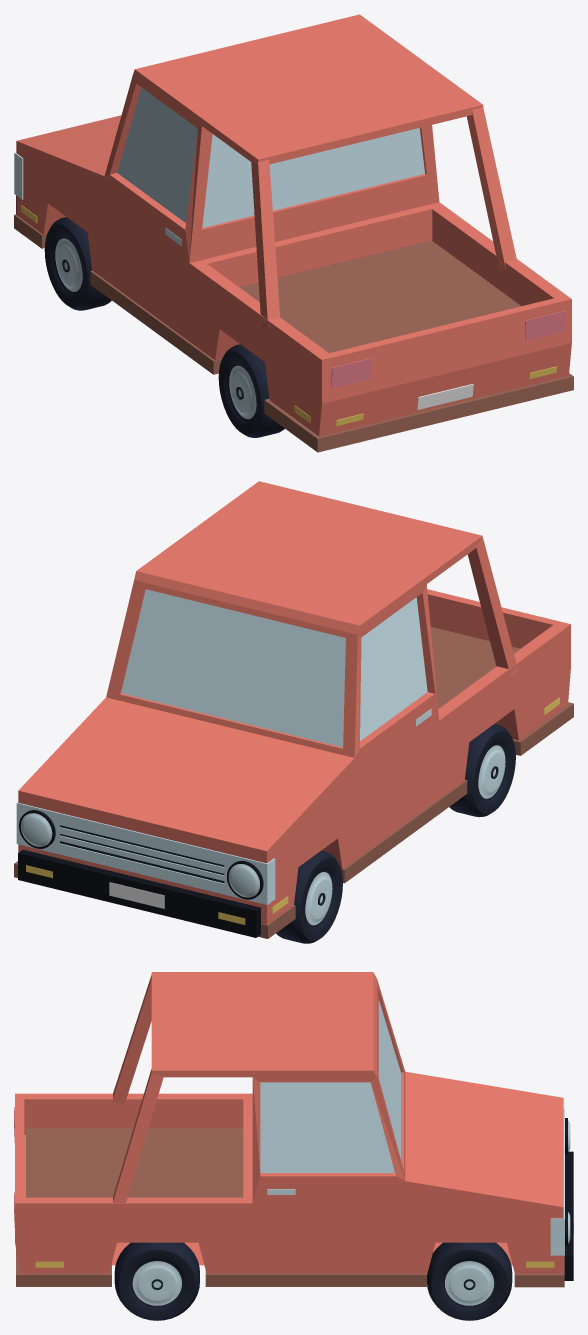
The model's file is Race Car.fbx.
The picture shows the model from 3 angles, top to bottom: view 1: azimuth 30°, elevation 25°; view 2: azimuth 150°, elevation 25°; view 3: azimuth 270°, elevation 25°; orthographic projection. The views are drawn at different scales.
Parts seen in each view (by area): view 1: Cube_2_3, Cube, Cube_1, Cylinder_1_2, Cylinder_7, Cube_1_2, Cube_2_2, Cube_2, Cube_12, Cube_11, Cube_10; view 2: Cube_2_3, Cube_3_2, Cube_4, Cylinder_1_2, Cylinder_7, Cube, Cube_1_2, Cube_2, Cylinder_2_3, Cylinder_2, Cube_1, Cube_5 (+1 smaller); view 3: Cube_2_3, Cube, Cylinder_5, Cylinder_6, Cube_2, Cube_2_2, Cube_1_2, Cube_1, Cube_4, Cube_3, Cube_3_2.
Boxes of the visible parts, x1,y1,x2,y2 form: Cube_2_3: [16, 14, 571, 436]; Cube: [239, 240, 520, 352]; Cube_1: [264, 373, 573, 452]; Cylinder_1_2: [218, 344, 284, 437]; Cylinder_7: [44, 217, 111, 310]; Cube_1_2: [251, 159, 279, 327]; Cube_2_2: [466, 107, 516, 269]; Cube_2: [90, 270, 221, 374]; Cube_12: [331, 358, 372, 388]; Cube_11: [525, 311, 565, 341]; Cube_10: [417, 384, 473, 409]; Cube_2_3: [18, 481, 570, 924]; Cube_3_2: [16, 802, 275, 904]; Cube_4: [18, 849, 260, 937]; Cylinder_1_2: [449, 724, 515, 817]; Cylinder_7: [276, 850, 342, 943]; Cube: [430, 627, 520, 708]; Cube_1_2: [467, 538, 517, 678]; Cube_2: [341, 779, 467, 883]; Cylinder_2_3: [226, 860, 263, 899]; Cylinder_2: [19, 810, 55, 848]; Cube_1: [513, 702, 573, 755]; Cube_5: [109, 882, 164, 908]; Cube_2_3: [15, 972, 563, 1274]; Cube: [26, 1128, 243, 1197]; Cylinder_5: [114, 1242, 199, 1320]; Cylinder_6: [427, 1242, 512, 1320]; Cube_2: [205, 1271, 426, 1286]; Cube_2_2: [113, 1069, 163, 1202]; Cube_1_2: [112, 975, 151, 1105]; Cube_1: [16, 1249, 111, 1286]; Cube_4: [564, 1151, 573, 1280]; Cube_3: [514, 1255, 564, 1287]; Cube_3_2: [550, 1108, 564, 1255].
Size of what is drawn, in the model's own units: 155 by 158 by 324.
